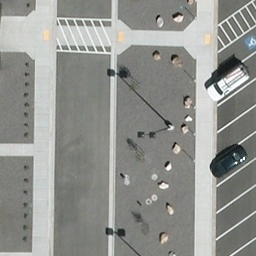car: (208, 143, 248, 181)
pickup: (207, 65, 254, 103)
